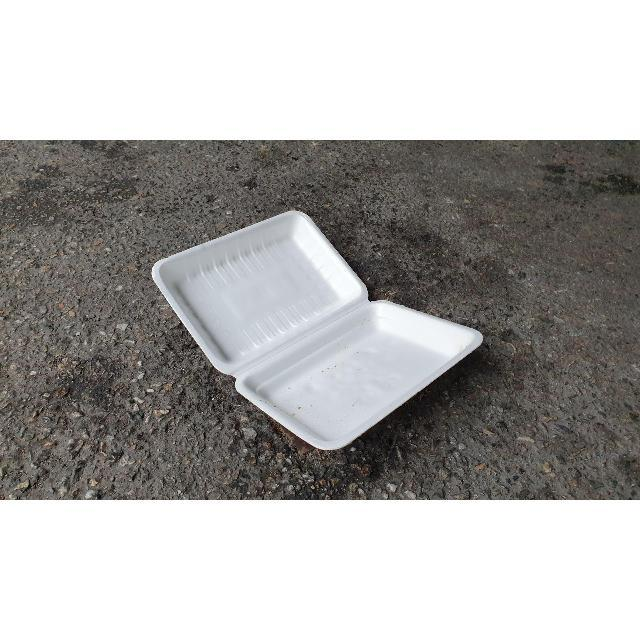Plastico descartable: (150, 211, 485, 453)
